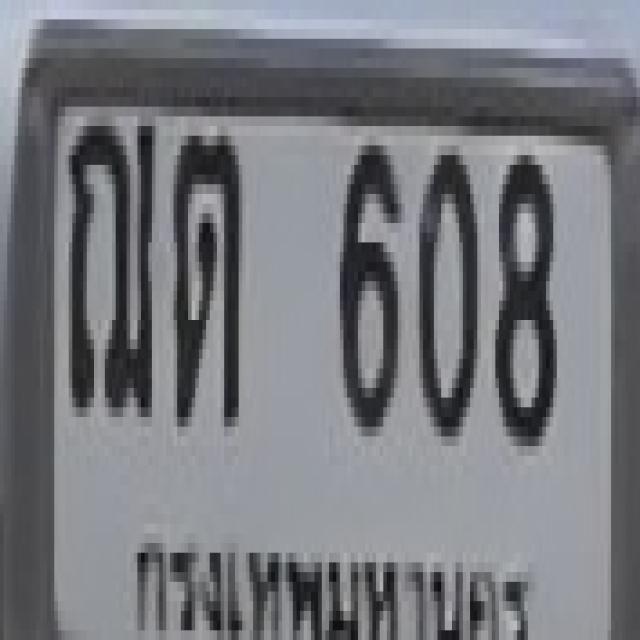-: (65, 107, 152, 407), (170, 121, 239, 412)
0: (416, 140, 474, 422)
6: (336, 131, 394, 422)
8: (492, 146, 553, 437)
